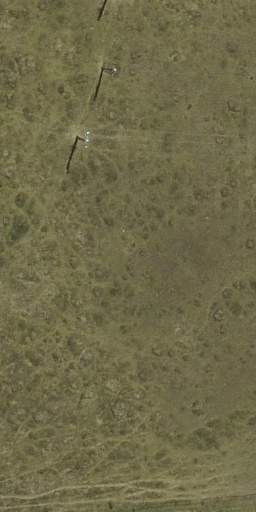DT: (74, 124, 96, 153), (99, 60, 124, 83)
